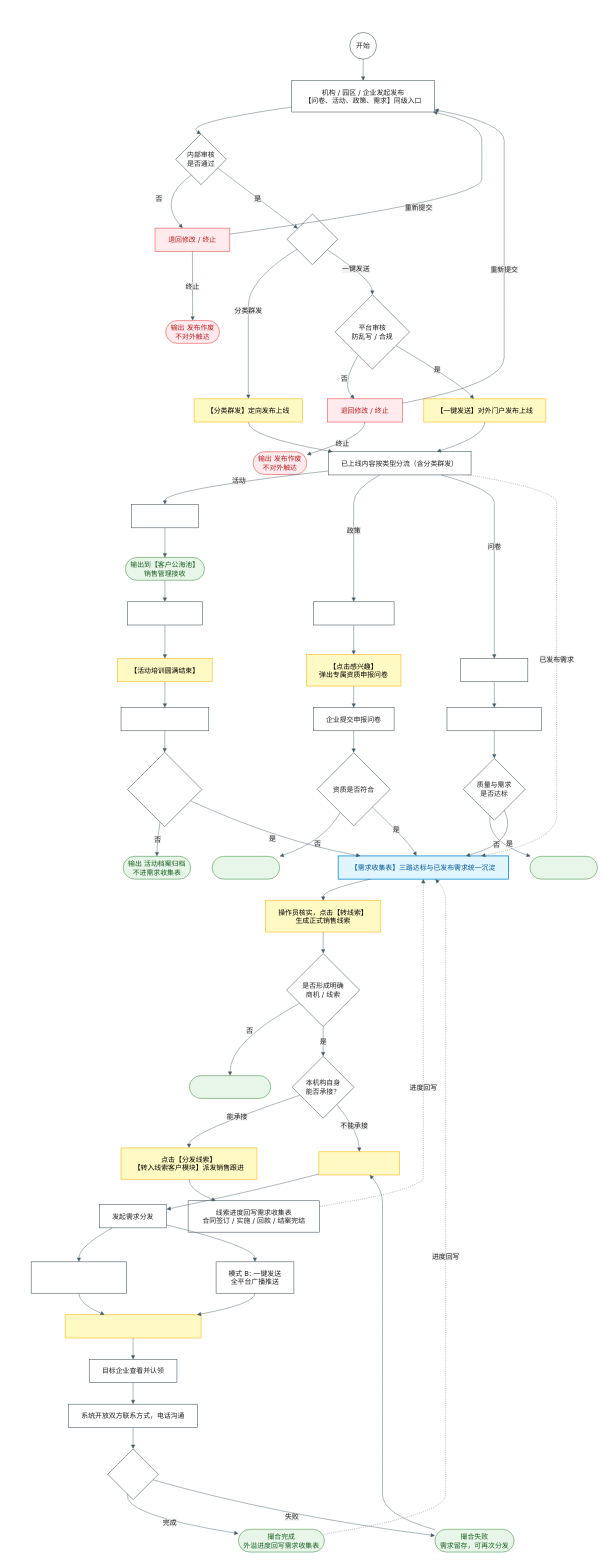
Some shapes in this 605 by 1560 pixel diagram are drawn without their labels. The centre of each missing label's shape, as x and y in pixels:
"【被选企业后台首页】醒目展示需求" goes at pixel 133 1326.
"企业主动填写常规问卷" goes at pixel 494 719.
"企业查阅政策推送" goes at pixel 353 613.
"企业线上报名" goes at pixel 164 516.
"推送活动满意度问卷" goes at pixel 165 719.
"撮合结果" goes at pixel 132 1474.
"是否发布 到门户？" goes at pixel 312 239.
"模式 A: 分类群发 按行业 / 标签定向推送" goes at pixel 79 1277.
"满意度 / 潜力 是否达标" goes at pixel 164 789.
"独立问卷上线" goes at pixel 494 670.
"线下 / 线上参会" goes at pixel 164 613.
"转为平台外溢需求" goes at pixel 359 1163.
"输出 数据归档入库 不进需求收集表" goes at pixel 564 867.
"输出 沉淀常规客情记录 不转销售" goes at pixel 230 1086.
"输出 留存浏览记录 不进需求收集表" goes at pixel 246 867.
